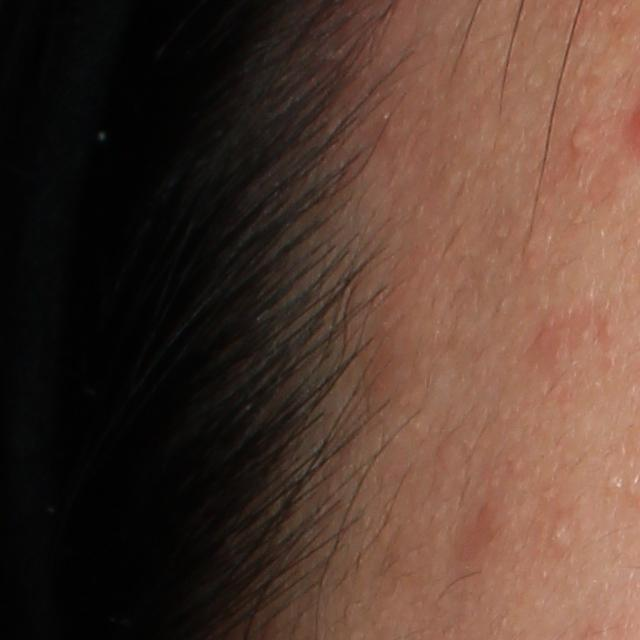comedo: (543, 516, 570, 548), (605, 474, 625, 494)
